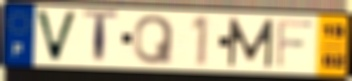1: (190, 15, 209, 69)
F: (274, 18, 316, 70)
M: (226, 17, 276, 70)
Q: (132, 14, 176, 66)
T: (81, 8, 121, 67)
V: (33, 8, 80, 64)
